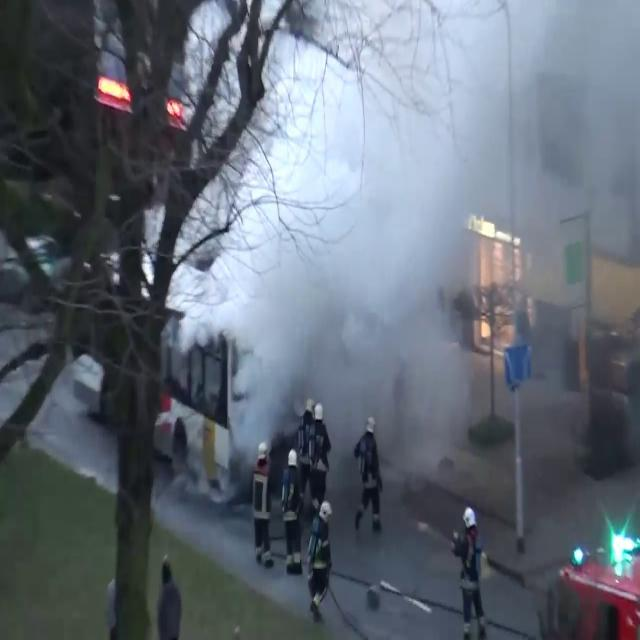Smoke: (225, 1, 640, 484)
